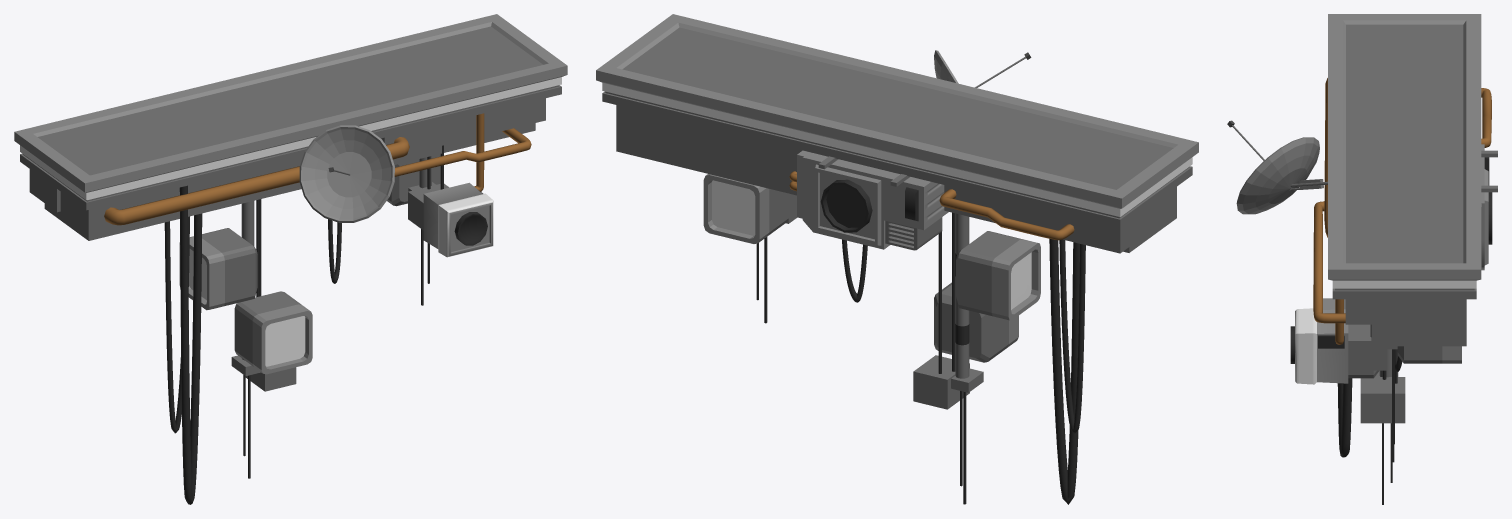
Rendered from Cyberpunk Platform.glb.
3 renders of one model, left to right at view 1: azimuth 30°, elevation 25°; view 2: azimuth 150°, elevation 25°; view 3: azimuth 270°, elevation 25°, orthographic. The views are drawn at different scales.
Parts seen in each view (by area): view 1: Platform_4x1; view 2: Platform_4x1; view 3: Platform_4x1.
Boxes of the visible parts, x1,y1,x2,y2 form: Platform_4x1: [14, 14, 567, 504]; Platform_4x1: [596, 14, 1198, 504]; Platform_4x1: [1227, 14, 1497, 504].
Bounding box in the file's own units: 3.86 × 2.81 × 1.73.
